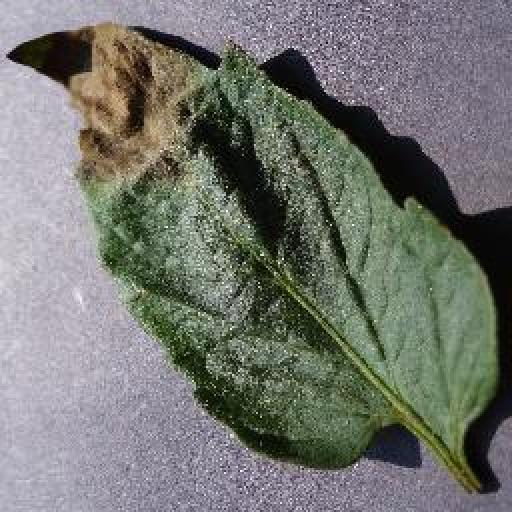disease_tomato: (5, 18, 503, 470)
